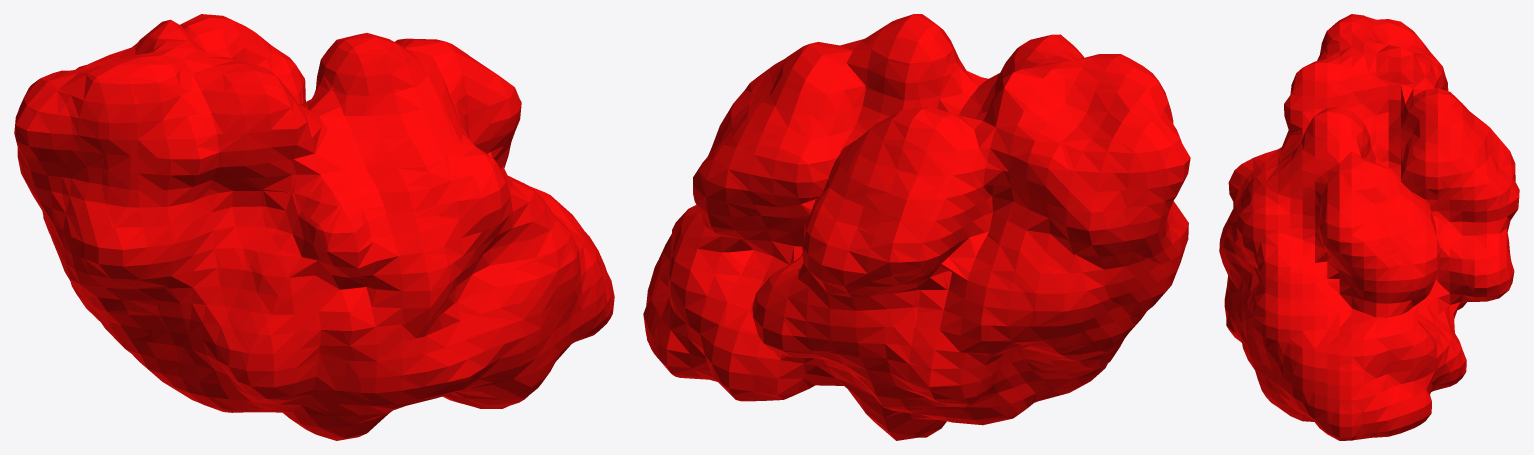
File: hcxB_coarse.dae
The picture shows the model from 3 angles, left to right: view 1: azimuth 30°, elevation 25°; view 2: azimuth 150°, elevation 25°; view 3: azimuth 270°, elevation 25°; orthographic projection. The views are drawn at different scales.
Visible parts, largest first — view 1: hcxB; view 2: hcxB; view 3: hcxB.
Part boxes in pixels (x1,y1,x2,y2): hcxB: [14, 14, 614, 440]; hcxB: [643, 14, 1190, 440]; hcxB: [1219, 14, 1519, 440].
Size of the model in its own units: 94.34 by 65.08 by 61.66.
